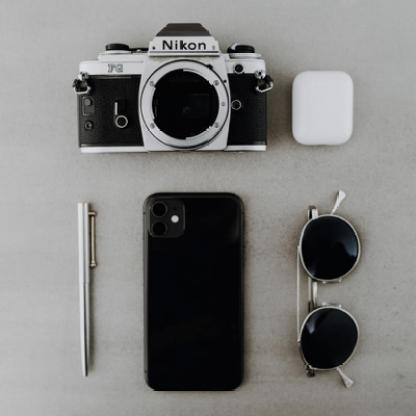cell-phone: (135, 187, 266, 395)
